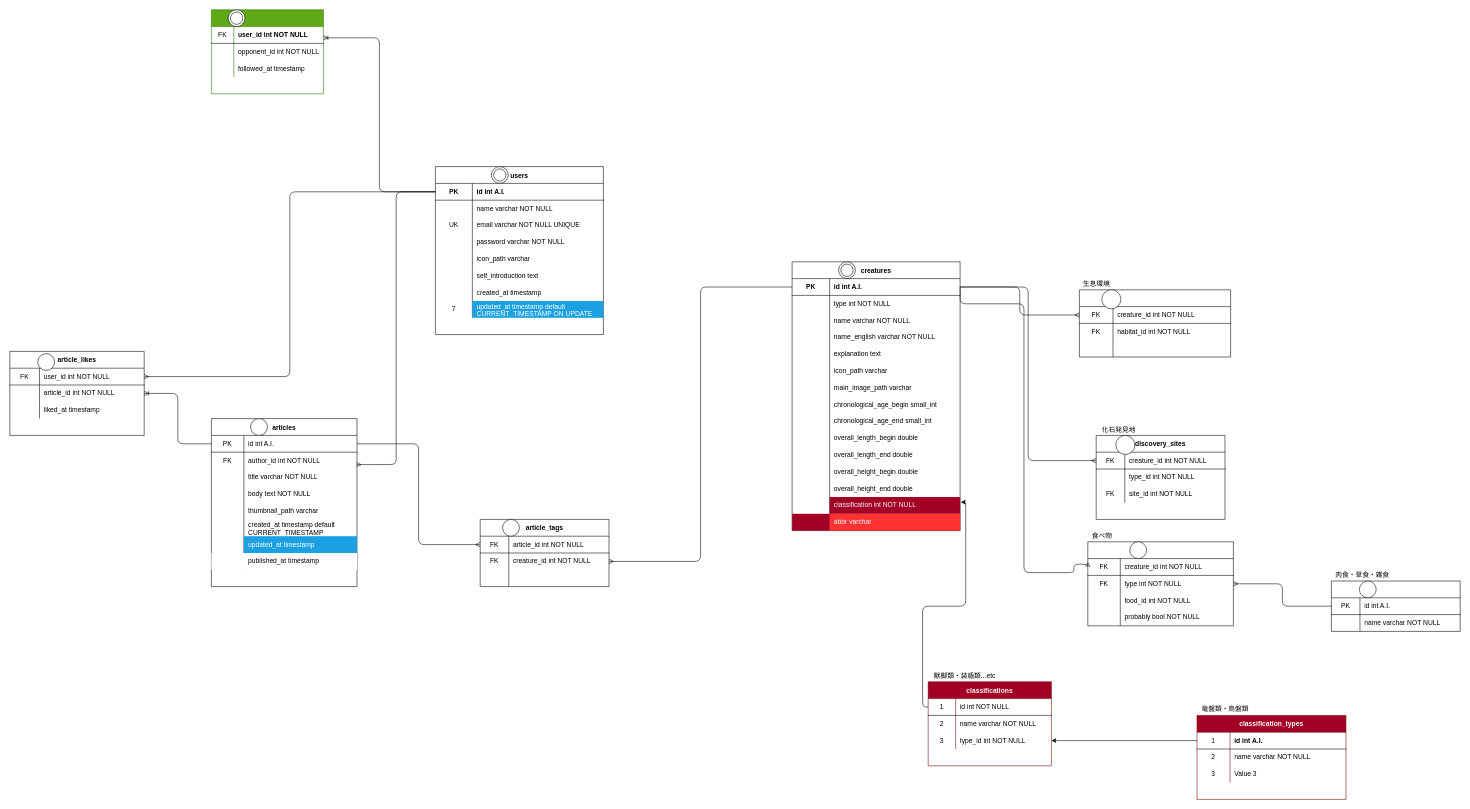
Image size: 1470x809. Some labels were removed from this diagram. Each missing label, with the box of its shape:
creatures_habitats: (1079, 289, 1231, 357)
food_types: (1331, 580, 1460, 631)
foods: (1087, 541, 1233, 626)
user_follows: (211, 9, 323, 94)
